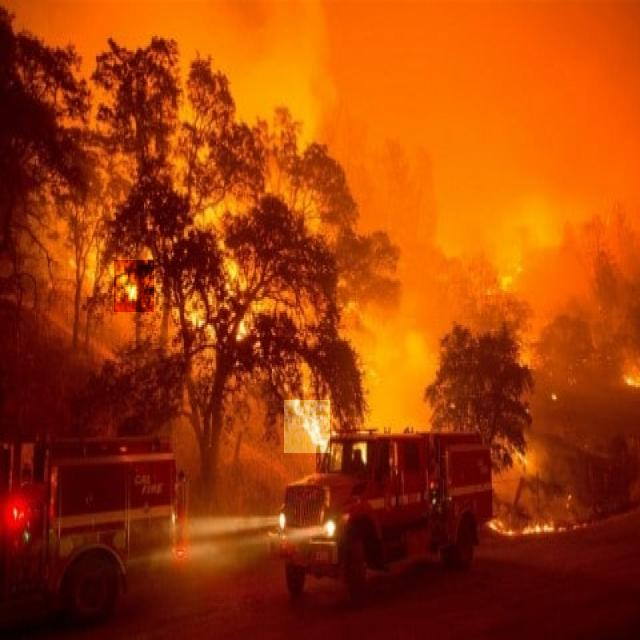Fire: (284, 400, 330, 453), (114, 260, 154, 312)
Smoke: (48, 2, 640, 319)
